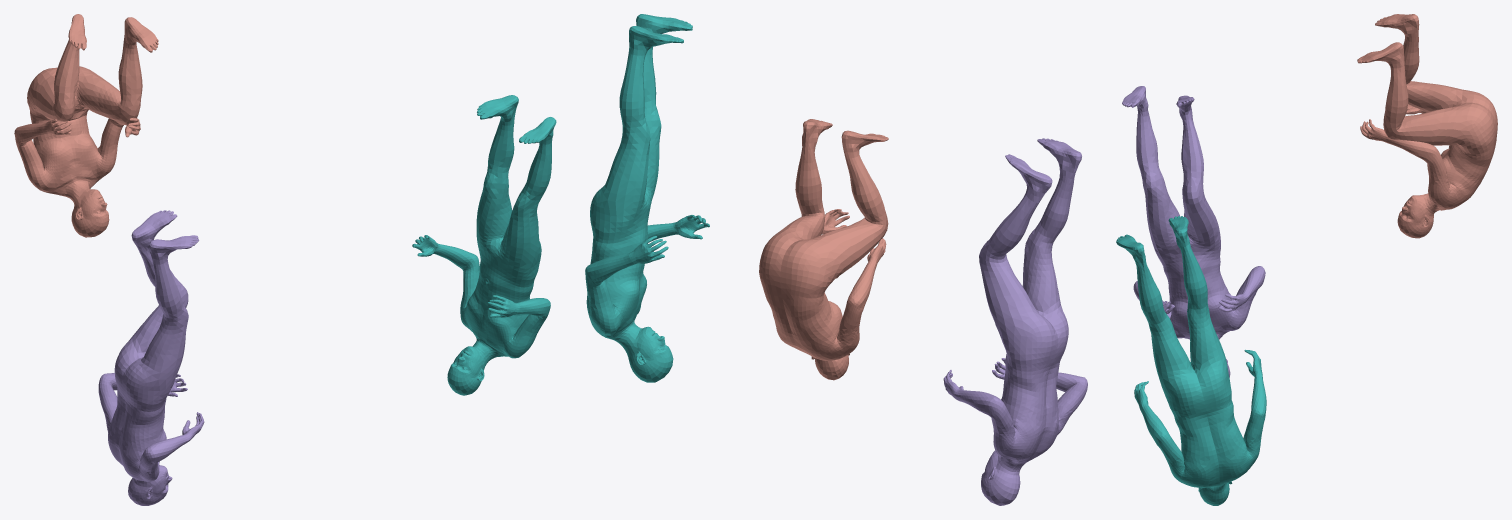
Rendered from all_people_native_world.glb.
3 renders of one model, left to right at view 1: azimuth 30°, elevation 25°; view 2: azimuth 150°, elevation 25°; view 3: azimuth 270°, elevation 25°, orthographic. The views are drawn at different scales.
Parts seen in each view (by area): view 1: persistent_id_1_slot_1, persistent_id_0_slot_2, persistent_id_2_slot_0; view 2: persistent_id_2_slot_0, persistent_id_1_slot_1, persistent_id_0_slot_2; view 3: persistent_id_1_slot_1, persistent_id_0_slot_2, persistent_id_2_slot_0.
Boxes of the visible parts, x1,y1,x2,y2 form: persistent_id_1_slot_1: [412, 95, 556, 395]; persistent_id_0_slot_2: [14, 14, 158, 237]; persistent_id_2_slot_0: [98, 210, 204, 505]; persistent_id_2_slot_0: [943, 138, 1087, 505]; persistent_id_1_slot_1: [585, 14, 709, 382]; persistent_id_0_slot_2: [759, 119, 888, 380]; persistent_id_1_slot_1: [1116, 216, 1266, 505]; persistent_id_0_slot_2: [1357, 14, 1497, 238]; persistent_id_2_slot_0: [1122, 86, 1265, 377].
Size of the model in its own units: 2.48 by 2.29 by 2.04.
